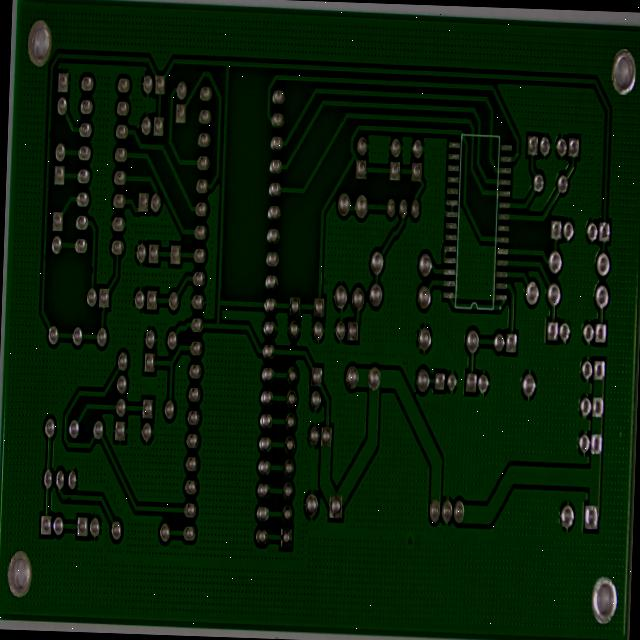mouse_bite: (21, 42, 31, 62), (40, 464, 50, 483), (67, 200, 74, 217)
